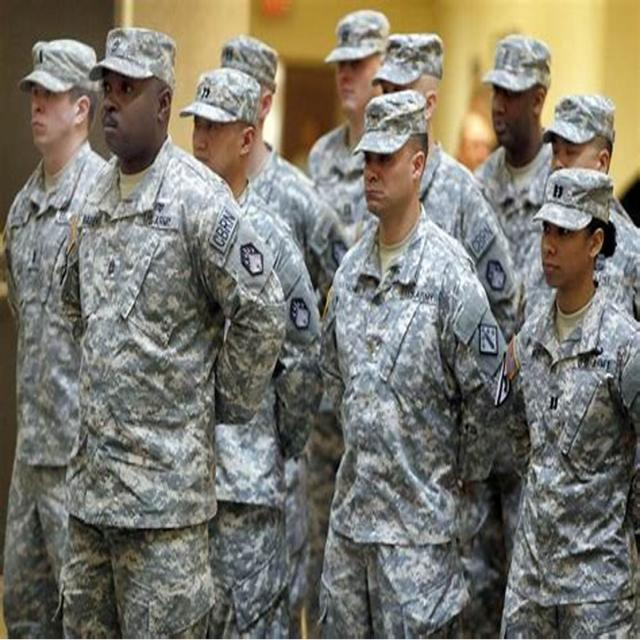illegal_helmet: (88, 20, 181, 167), (14, 34, 106, 162), (528, 166, 618, 295), (351, 88, 431, 224), (179, 61, 266, 180), (478, 32, 554, 160), (368, 25, 447, 135), (540, 89, 616, 185), (326, 10, 392, 106)
